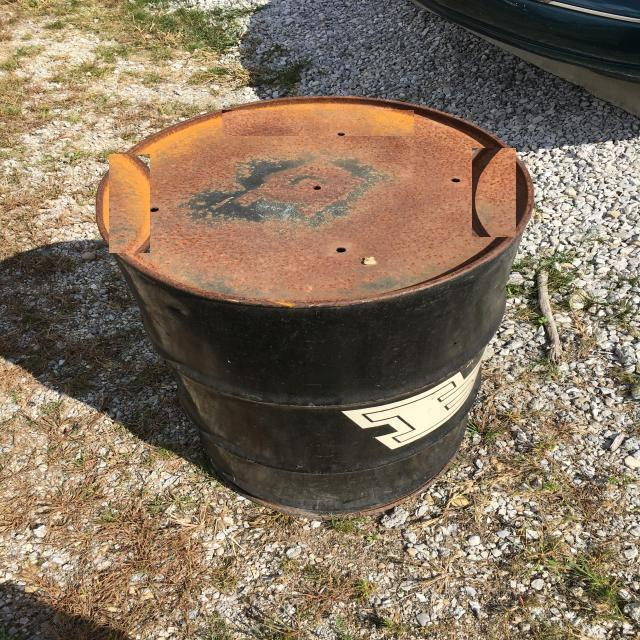Uniform Corrosion: (99, 96, 503, 304)
